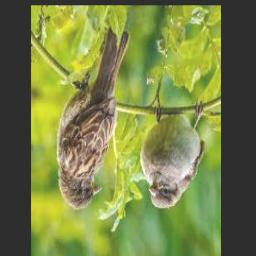Sparrow: (57, 28, 130, 210), (140, 100, 206, 208)
